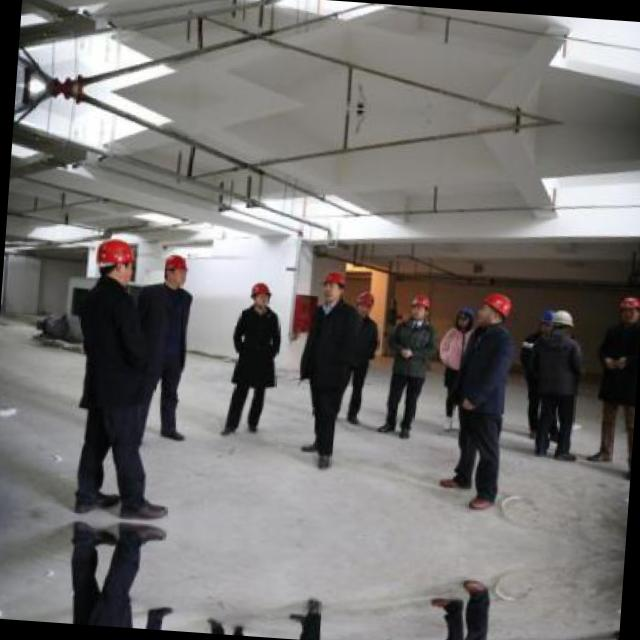helmet: (94, 235, 142, 290), (474, 290, 518, 330), (318, 268, 350, 306), (161, 247, 191, 287), (617, 291, 640, 329), (450, 302, 478, 333), (551, 305, 576, 338), (407, 290, 433, 320), (533, 303, 557, 334), (246, 280, 272, 308), (354, 290, 376, 316)
